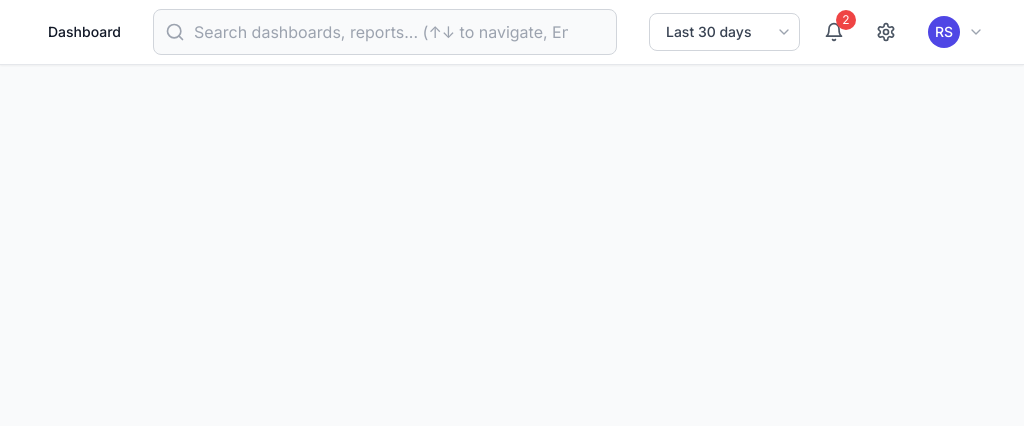
Test case: Header › opens user menu on avatar click
The width and height of the screenshot is (1024, 426).
What coordinates should you click on to do the following:
click the button "RS"
I would click on:
 (956, 32)
Its box is [920,8,992,56].
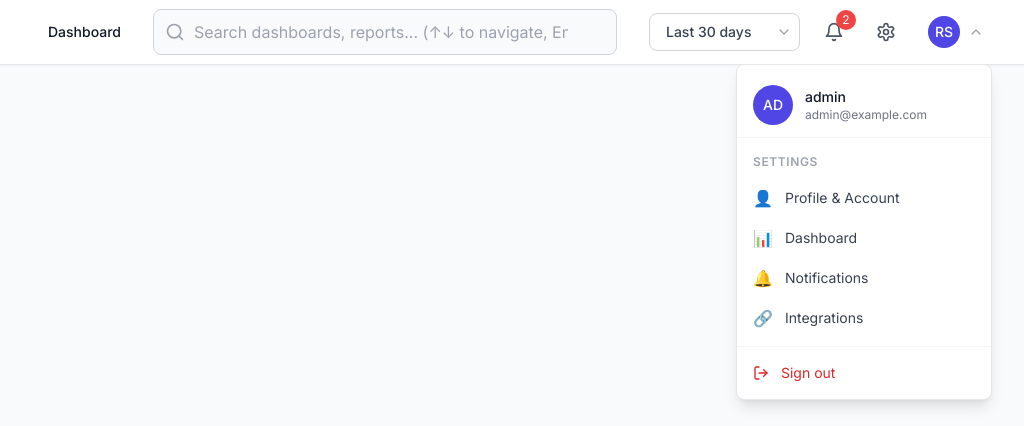
Now the button "Sign out" is shown, box [737,355,991,391]
